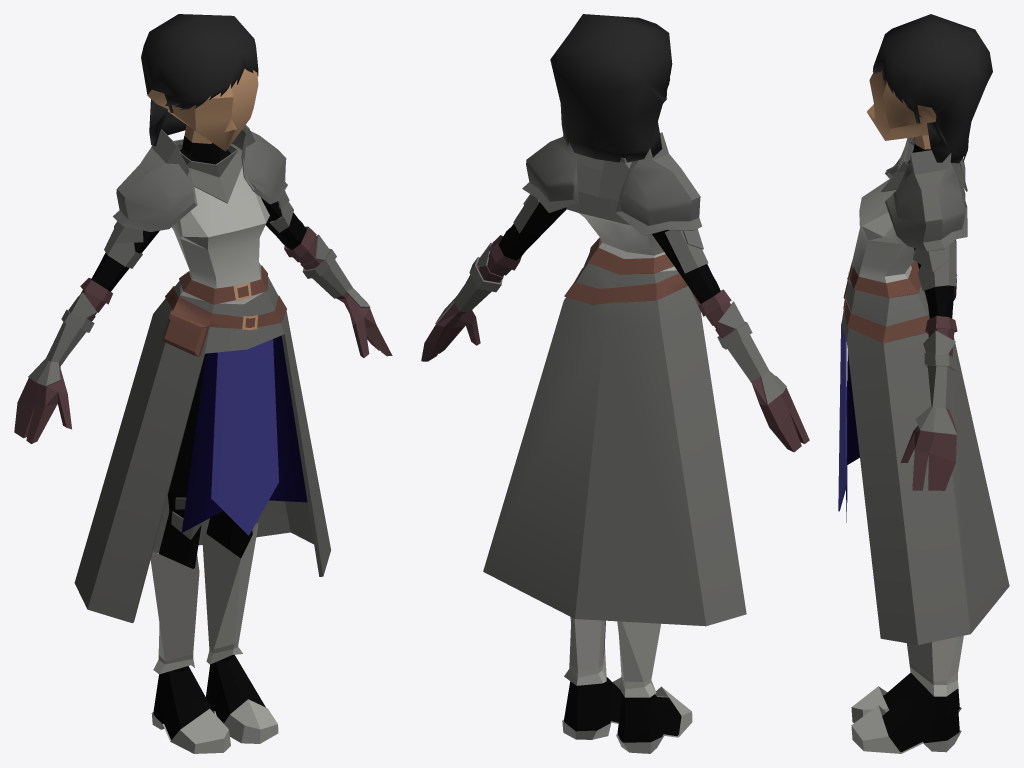
Rendered from female_knight.glb.
The picture shows the model from 3 angles, left to right: view 1: azimuth 30°, elevation 25°; view 2: azimuth 150°, elevation 25°; view 3: azimuth 270°, elevation 25°; orthographic projection. The views are drawn at different scales.
Parts seen in each view (by area): view 1: bottem2, boot, bottem, hair.001, shoulder, breastplate, skirt, gloves, feet, belt, pants, gauntlets (+4 smaller); view 2: bottem2, hair.001, shoulder, boot, gloves, feet, gauntlets, belt, sleevs and neck, neckpiece, upperarmplates; view 3: bottem2, hair.001, shoulder, boot, feet, breastplate, gloves, belt, gauntlets, body, upperarmplates, bottem (+3 smaller).
Boxes of the visible parts, x1,y1,x2,y2 form: bottem2: [74, 277, 330, 623]; boot: [150, 523, 278, 753]; bottem: [211, 339, 278, 535]; hair.001: [141, 14, 258, 146]; shoulder: [113, 125, 287, 231]; breastplate: [171, 144, 269, 304]; skirt: [181, 335, 307, 532]; gloves: [14, 226, 392, 443]; feet: [153, 654, 265, 740]; belt: [162, 265, 286, 357]; pants: [158, 353, 252, 568]; gauntlets: [28, 234, 369, 386]; bottem2: [483, 191, 746, 626]; hair.001: [550, 14, 672, 162]; shoulder: [522, 132, 702, 235]; boot: [562, 617, 692, 753]; gloves: [421, 235, 809, 452]; feet: [564, 677, 681, 742]; gauntlets: [435, 242, 786, 404]; belt: [564, 237, 700, 304]; sleevs and neck: [498, 153, 720, 303]; neckpiece: [575, 153, 631, 201]; upperarmplates: [513, 194, 708, 273]; bottem2: [841, 261, 1009, 644]; hair.001: [872, 14, 992, 163]; shoulder: [885, 137, 967, 251]; boot: [851, 635, 963, 753]; feet: [882, 672, 959, 752]; breastplate: [848, 177, 914, 285]; gloves: [900, 278, 957, 490]; belt: [843, 261, 929, 343]; gauntlets: [915, 274, 957, 434]; body: [867, 70, 936, 149]; upperarmplates: [913, 240, 956, 291]; bottem: [838, 321, 846, 511].
Size of the model in its own units: 2.42 by 4.48 by 0.9813.
